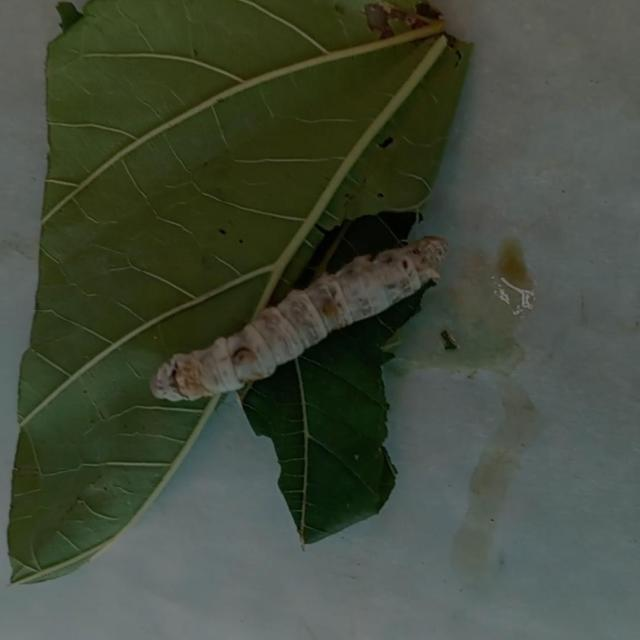Grasserie: (145, 227, 454, 409)
